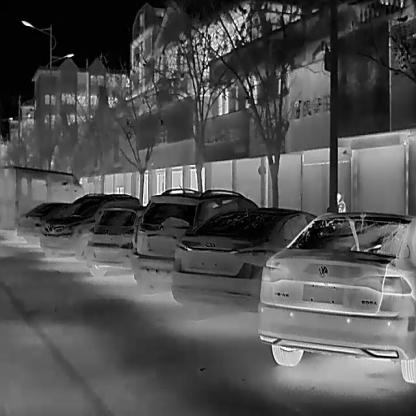car: (257, 210, 415, 382), (170, 205, 318, 321), (131, 186, 256, 298), (38, 191, 140, 259), (0, 163, 86, 242), (86, 208, 151, 279), (14, 200, 81, 244)
